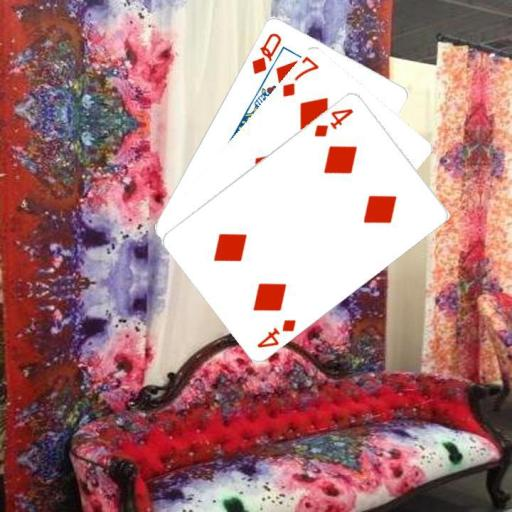4D: (311, 105, 355, 139), (254, 315, 298, 349)
7D: (279, 54, 321, 98)
QD: (248, 30, 283, 76)
